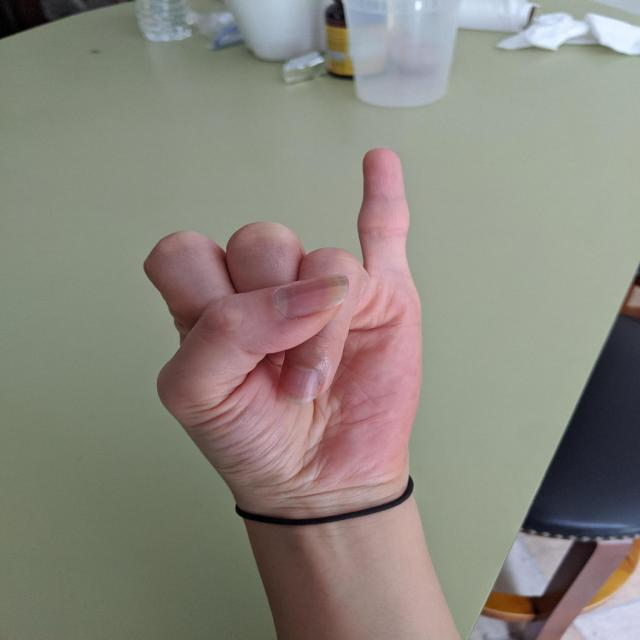I: (136, 142, 433, 502)
